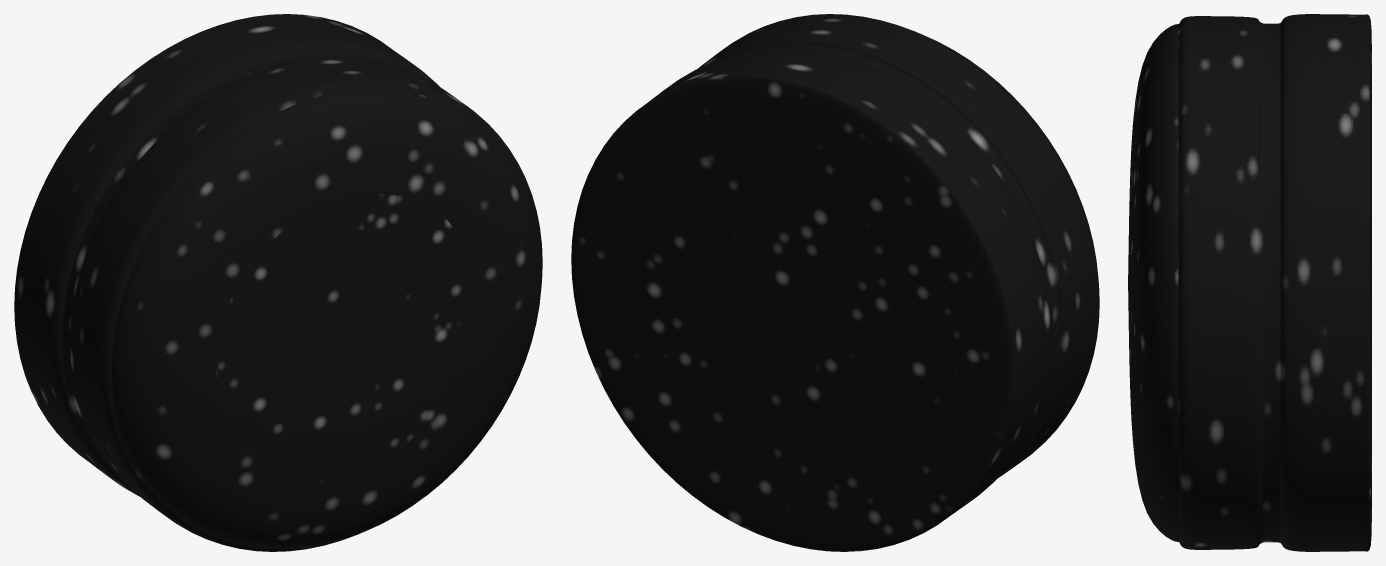
The picture shows the model from 3 angles, left to right: view 1: azimuth 30°, elevation 25°; view 2: azimuth 150°, elevation 25°; view 3: azimuth 270°, elevation 25°; orthographic projection. The views are drawn at different scales.
Size of the model in its own units: 0.3449 by 0.3449 by 0.1563.
